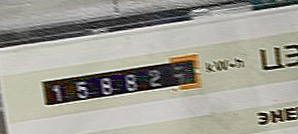1: (48, 84, 62, 104)
2: (146, 69, 160, 89)
5: (73, 80, 87, 102)
7: (172, 73, 184, 88)
8: (97, 76, 112, 98), (122, 73, 137, 95)
screen: (31, 49, 211, 117)
